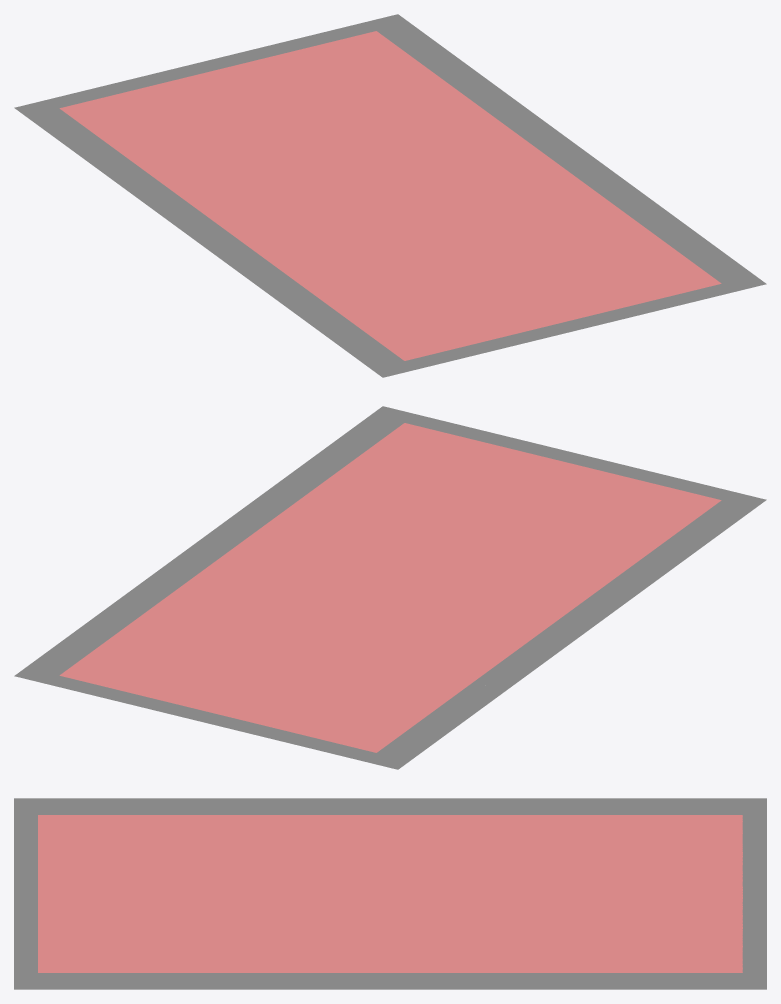
Rendered from S_Envi_FZFBase_Ground_02c.gltf.
3 views of the same model, one above another, from view 1: azimuth 30°, elevation 25°; view 2: azimuth 150°, elevation 25°; view 3: azimuth 270°, elevation 25° (orthographic). The views are drawn at different scales.
Parts seen in each view (by area): view 1: S_Envi_FZFBase_Ground_02c; view 2: S_Envi_FZFBase_Ground_02c; view 3: S_Envi_FZFBase_Ground_02c.
Part boxes in pixels (bbox=[...]): S_Envi_FZFBase_Ground_02c: bbox=[14, 14, 766, 377]; S_Envi_FZFBase_Ground_02c: bbox=[14, 406, 766, 769]; S_Envi_FZFBase_Ground_02c: bbox=[14, 798, 766, 989].
Bounding box in the file's own units: 5.54 × 2.44e-06 × 9.21.
